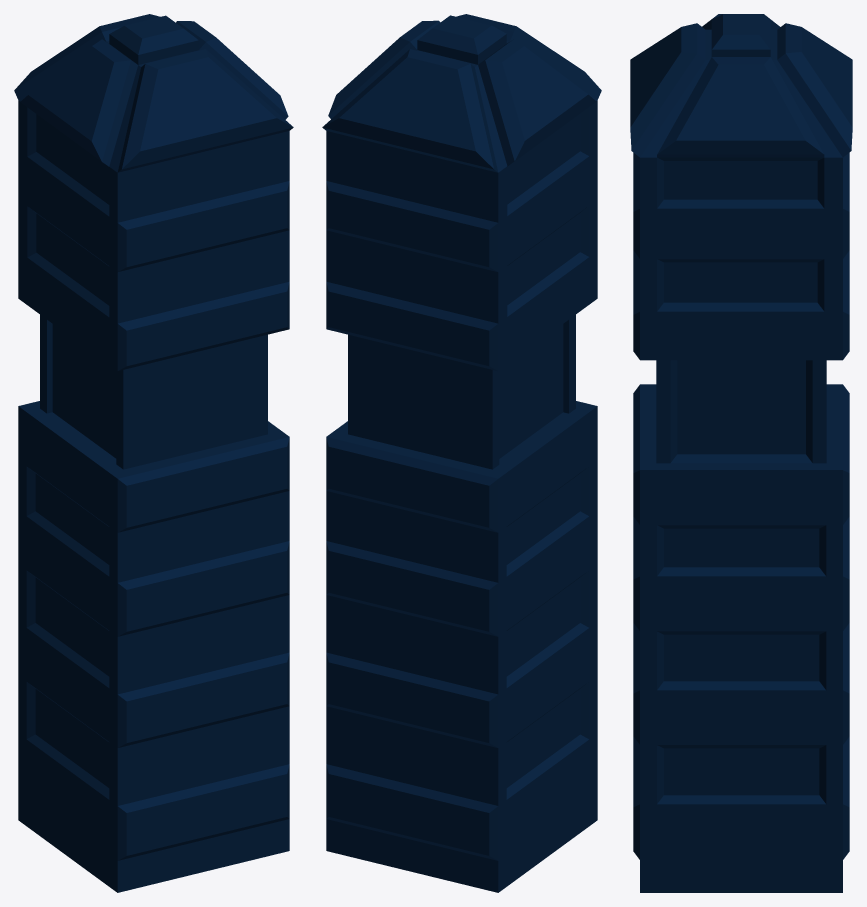
Rendered from square building.fbx.
The picture shows the model from 3 angles, left to right: view 1: azimuth 30°, elevation 25°; view 2: azimuth 150°, elevation 25°; view 3: azimuth 270°, elevation 25°; orthographic projection. The views are drawn at different scales.
Parts seen in each view (by area): view 1: pCube1; view 2: pCube1; view 3: pCube1.
Part boxes in pixels (left/top/right/bottom): pCube1: left=14, top=14, right=293, bottom=892; pCube1: left=322, top=14, right=601, bottom=892; pCube1: left=630, top=14, right=852, bottom=892.
Bounding box in the file's own units: 1.65 × 6.74 × 1.65.
